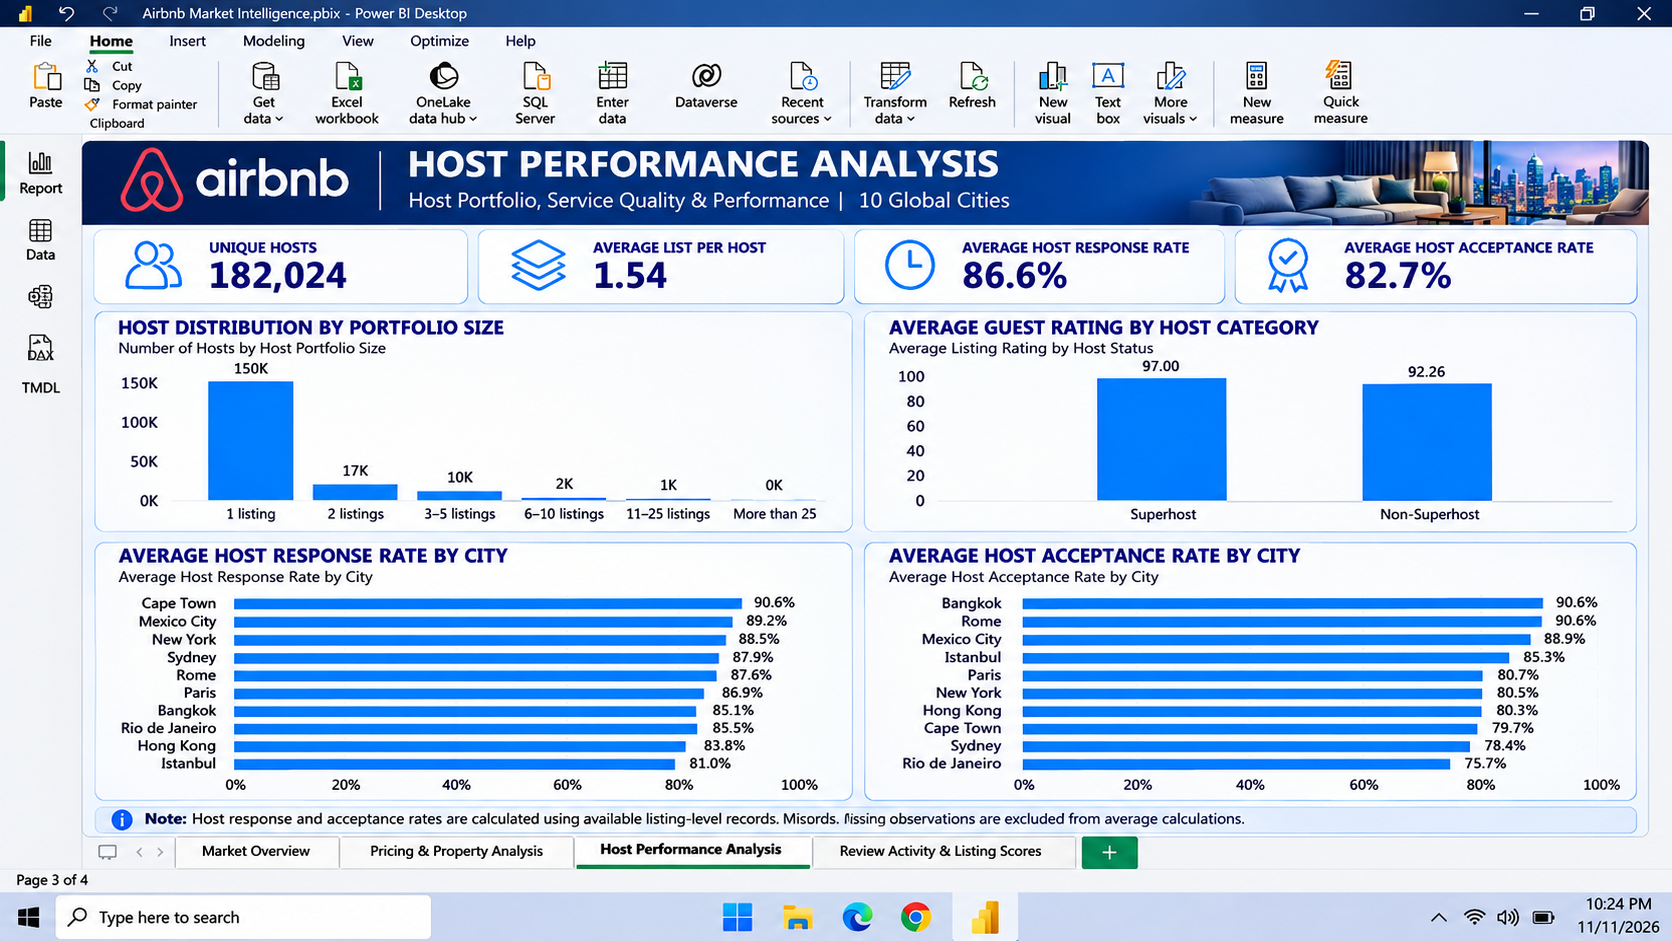

Layout of this report page (visuals, bound fields, positions):
{"tool":"powerbi","page":{"name":"Host Performance Analysis","canvas":[1920,2000],"ordinal":2},"visuals":[{"type":"textbox","title":"HOST PERFORMANCE ANALYSIS","box":[11.1,0,811.1,125.9],"z":0},{"type":"cardVisual","fields":{"Data":["Listings_PBI.Unique Hosts Display"]},"box":[11.1,129.6,351.9,70.4],"z":1000},{"type":"cardVisual","fields":{"Data":["Listings_PBI.Average Listings per Host"]},"box":[492.6,125.9,340.7,74.1],"z":2000},{"type":"cardVisual","fields":{"Data":["Listings_PBI.Average Host Acceptance Rate"]},"box":[1425.9,125.9,340.7,74.1],"z":3000},{"type":"cardVisual","fields":{"Data":["Listings_PBI.Average Host Response Rate"]},"box":[963,129.6,333.3,70.4],"z":4000},{"type":"clusteredColumnChart","title":"HOST DISTRIBUTION BY PORTFOLIO SIZE","fields":{"Category":["Host_Portfolio_Distribution.portfolio_size"],"Y":["Sum(Host_Portfolio_Distribution.host_count)"]},"box":[3.7,225.9,877.8,459.3],"z":5000},{"type":"clusteredColumnChart","title":"Average Guest Rating by Host Category","fields":{"Category":["Listings_PBI.Host Status"],"Y":["Listings_PBI.Average Listing Rating"]},"box":[929.6,225.9,859.3,459.3],"z":5001},{"type":"clusteredBarChart","title":"Average Host Response Rate by City","fields":{"Category":["City_Currency.city"],"Y":["Listings_PBI.Average Host Response Rate"]},"box":[3.7,707.4,888.9,451.9],"z":5002},{"type":"clusteredBarChart","title":"Average Host Acceptance Rate by City","fields":{"Category":["City_Currency.city"],"Y":["Listings_PBI.Average Host Acceptance Rate"]},"box":[929.6,707.4,863,451.9],"z":5003},{"type":"textbox","box":[11.1,1188.9,1792,116],"z":5004}]}

Visuals, with their boxes on the page's 1920x2000 design canvas (x1, y1, x2, y2). These are canvas units, not pixel positions in the 1672x941 screenshot, which may show the page scaled, cropped or inside an application window:
"HOST PERFORMANCE ANALYSIS" textbox: l=11, t=0, r=822, b=126
cardVisual - Listings_PBI.Unique Hosts Display: l=11, t=130, r=363, b=200
cardVisual - Listings_PBI.Average Listings per Host: l=493, t=126, r=833, b=200
cardVisual - Listings_PBI.Average Host Acceptance Rate: l=1426, t=126, r=1767, b=200
cardVisual - Listings_PBI.Average Host Response Rate: l=963, t=130, r=1296, b=200
"HOST DISTRIBUTION BY PORTFOLIO SIZE" clusteredColumnChart: l=4, t=226, r=882, b=685
"Average Guest Rating by Host Category" clusteredColumnChart: l=930, t=226, r=1789, b=685
"Average Host Response Rate by City" clusteredBarChart: l=4, t=707, r=893, b=1159
"Average Host Acceptance Rate by City" clusteredBarChart: l=930, t=707, r=1793, b=1159
textbox: l=11, t=1189, r=1803, b=1305
